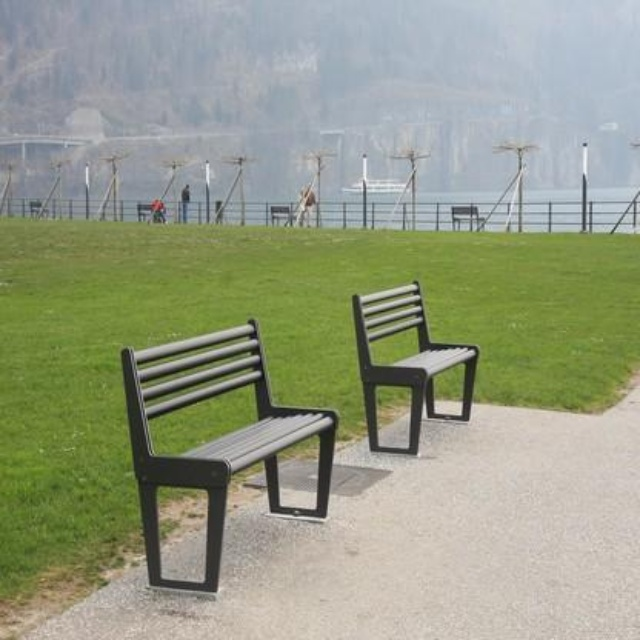obstacle: (103, 329, 338, 594), (346, 280, 492, 460)
